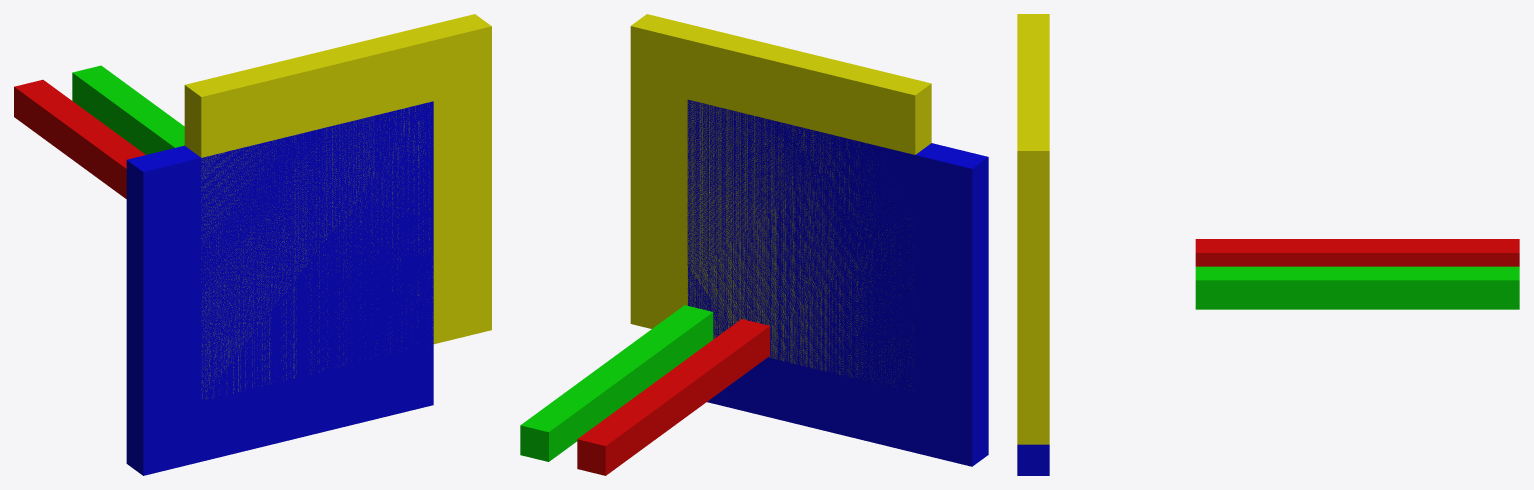
Rendered from table-controls-new.glb.
The picture shows the model from 3 angles, left to right: view 1: azimuth 30°, elevation 25°; view 2: azimuth 150°, elevation 25°; view 3: azimuth 270°, elevation 25°; orthographic projection. The views are drawn at different scales.
Parts seen in each view (by area): view 1: top01, top02, leg01, leg02; view 2: top01, top02, leg01, leg02; view 3: leg02, top02, leg01, top01.
Part boxes in pixels (x1,y1,x2,y2): top01: (126,101,433,475); top02: (184,14,491,397); leg01: (14,79,145,198); leg02: (72,65,184,154); top01: (687,99,988,466); top02: (630,14,931,390); leg01: (577,319,769,475); leg02: (520,305,713,461); leg02: (1195,266,1519,309); top02: (1017,14,1049,444); leg01: (1195,239,1519,266); top01: (1017,444,1049,475).
Size of the model in its own units: 1.2 by 1.2 by 1.55.
